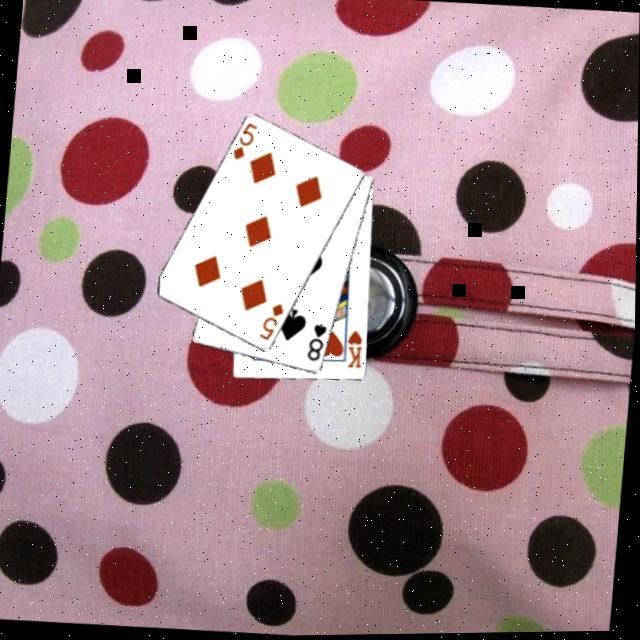5D: (230, 118, 262, 163), (256, 300, 288, 344)
8S: (305, 320, 331, 364)
KH: (344, 328, 368, 370)
